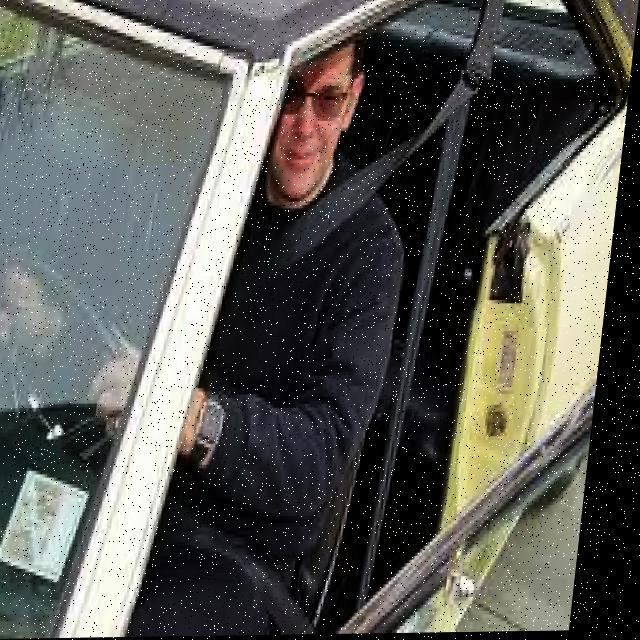seatbelt: (178, 141, 428, 623)
